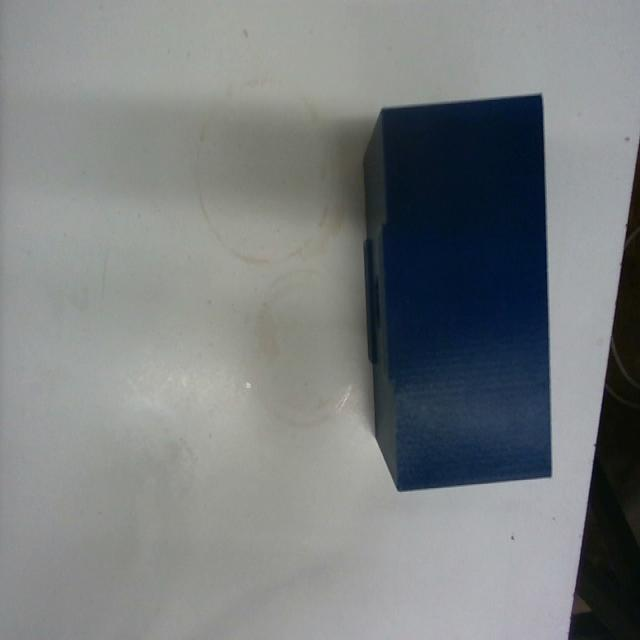Blue Cuboid: (359, 89, 554, 492)
